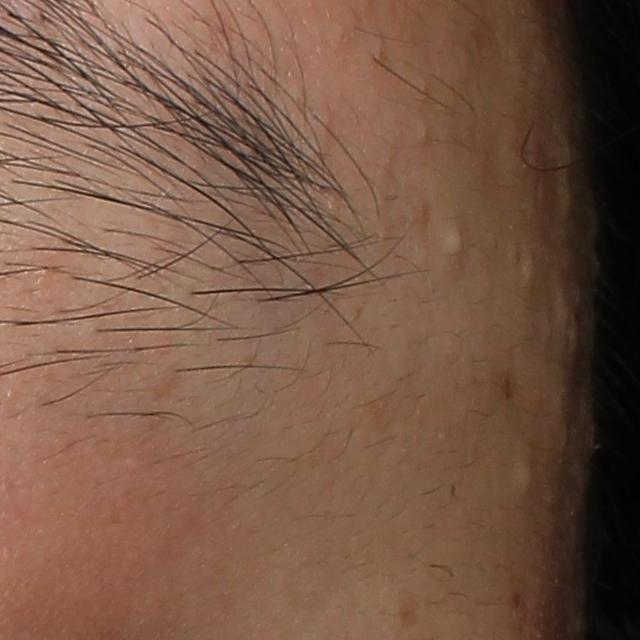comedo: (435, 217, 468, 260), (516, 460, 539, 495), (521, 254, 542, 291), (413, 121, 433, 147)
